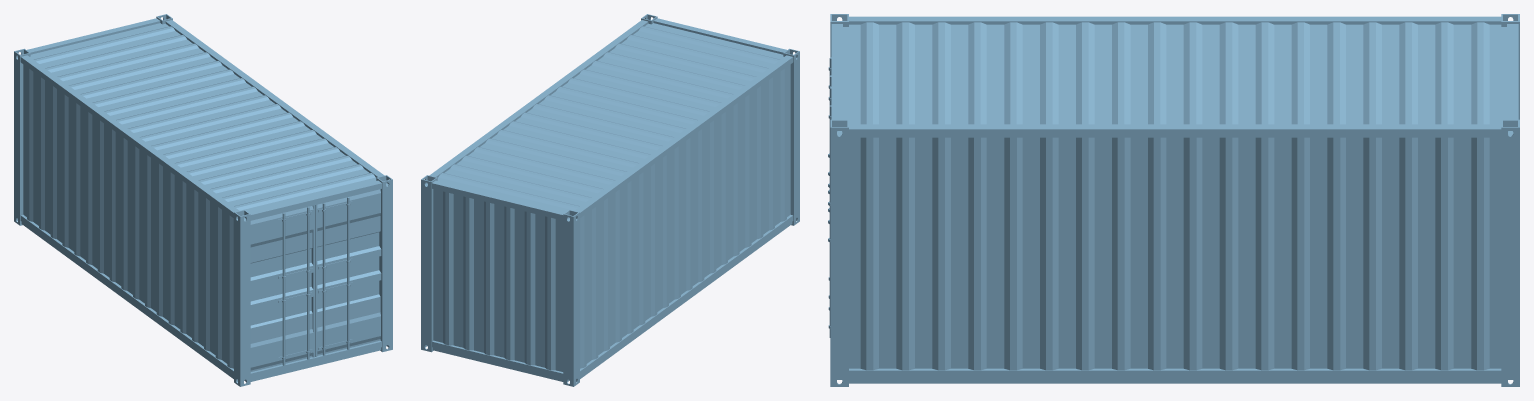
Rendered from 集装箱.fbx.
The picture shows the model from 3 angles, left to right: view 1: azimuth 30°, elevation 25°; view 2: azimuth 150°, elevation 25°; view 3: azimuth 270°, elevation 25°; orthographic projection. The views are drawn at different scales.
Parts seen in each view (by area): view 1: Group_001, Group_001.002; view 2: Group_001; view 3: Group_001, Group_001.002.
Boxes of the visible parts, left/top/right/bottom form: Group_001: left=14, top=14, right=392, bottom=386; Group_001.002: left=282, top=197, right=350, bottom=365; Group_001: left=421, top=14, right=799, bottom=386; Group_001: left=830, top=14, right=1519, bottom=386; Group_001.002: left=828, top=57, right=831, bottom=337.
Bounding box in the file's own units: 232 × 247 × 597.
